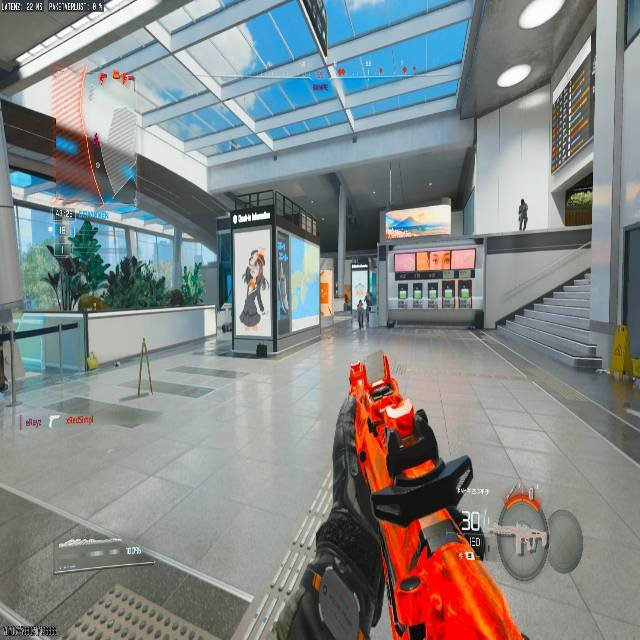player: (67, 221, 110, 298), (242, 248, 268, 326), (354, 293, 372, 336), (517, 198, 528, 231)
